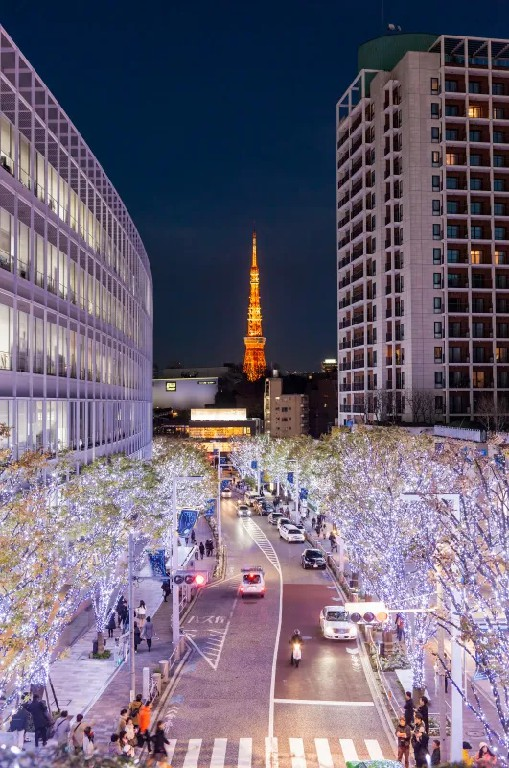Tokyo: (243, 216, 271, 384)
